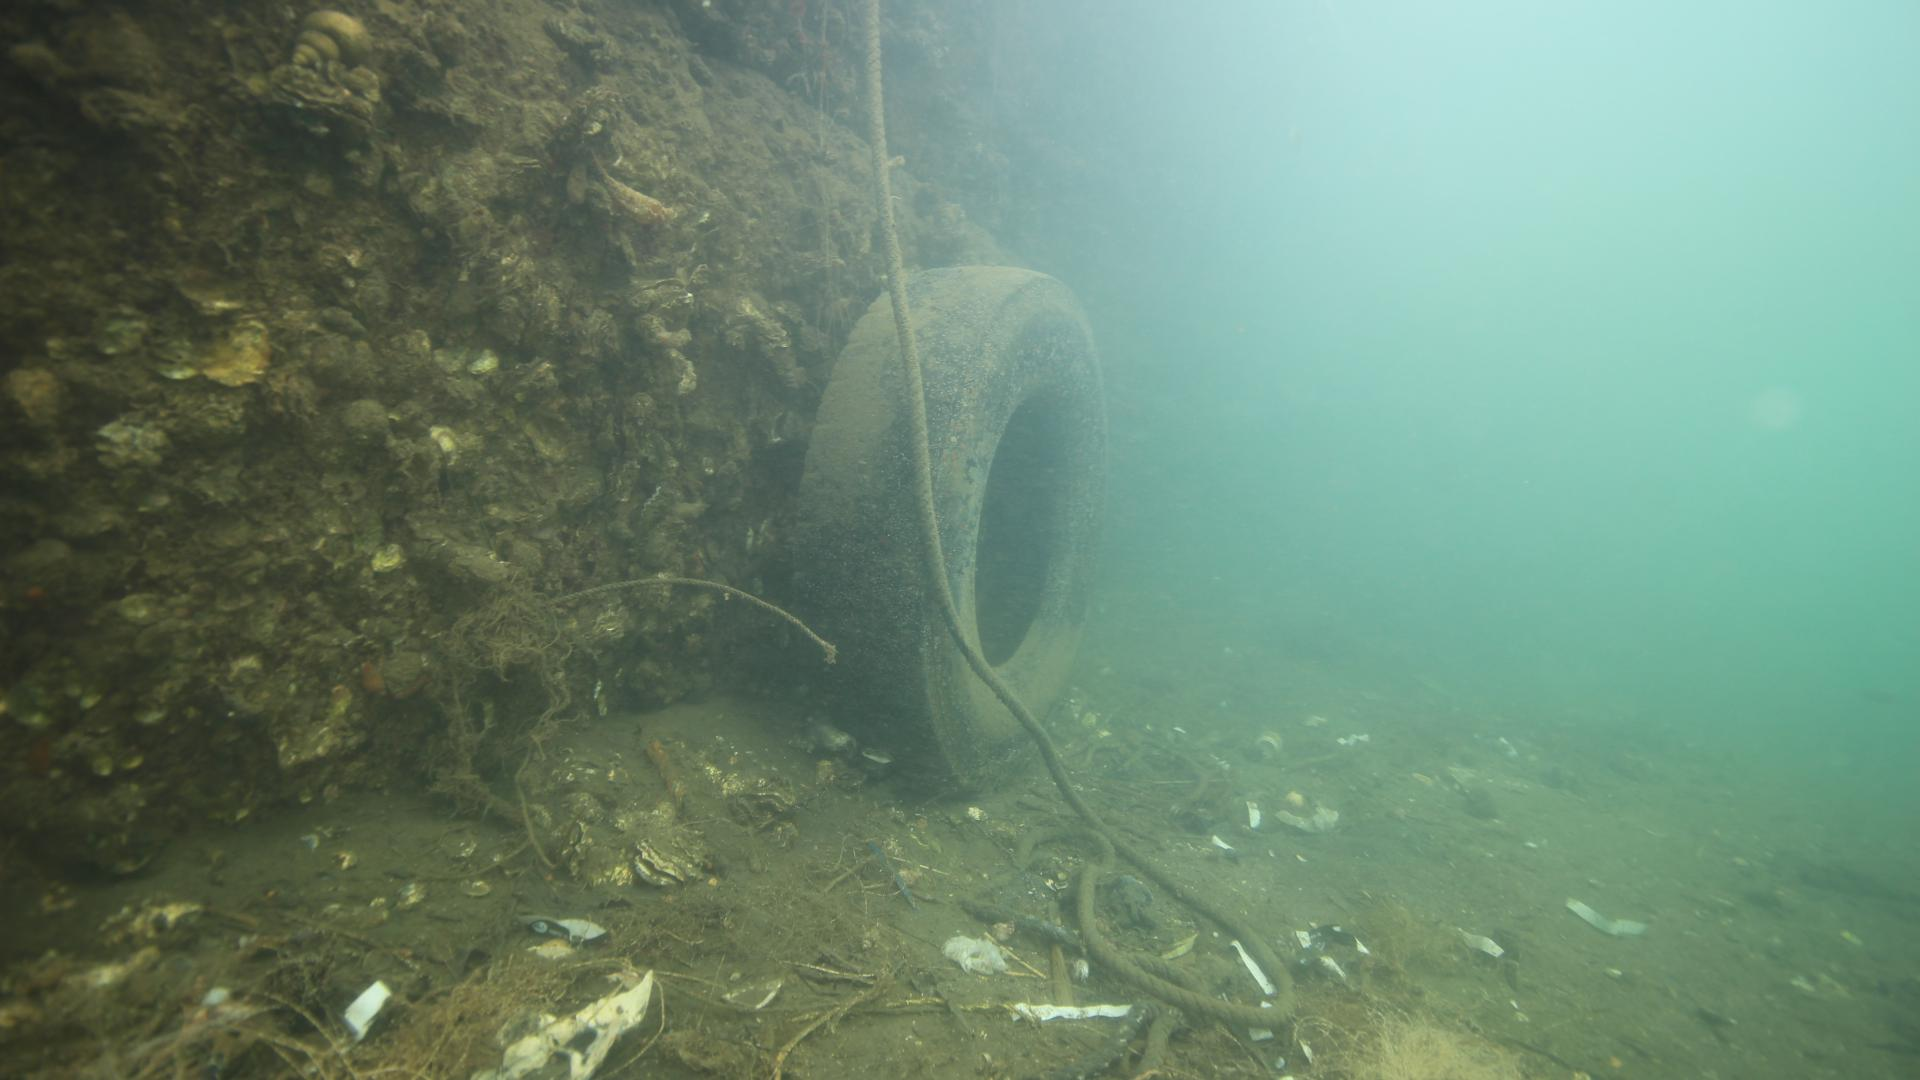rope: (860, 0, 1302, 1030)
tire: (794, 258, 1108, 781)
